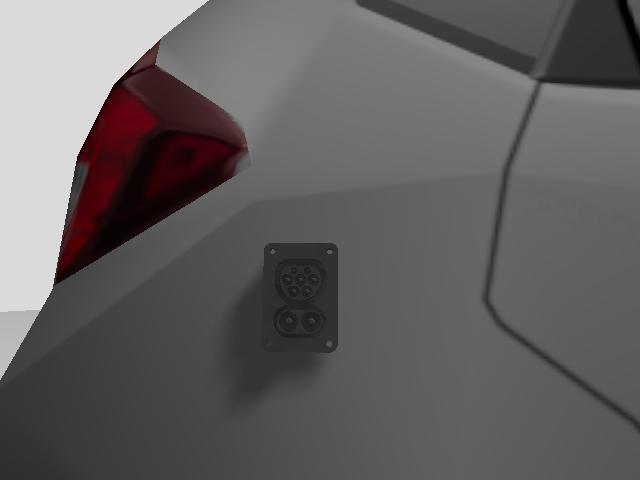EV-socket: (263, 243, 338, 352)
